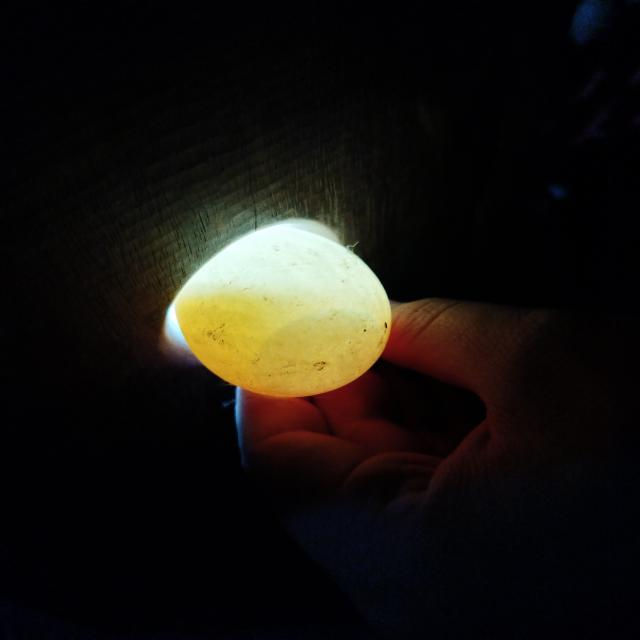Camara de Ar: (255, 309, 388, 396)
